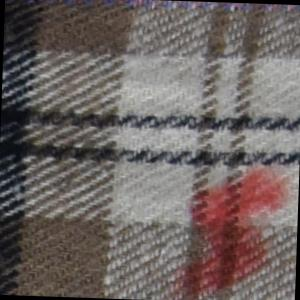Stain: (171, 155, 295, 300)
